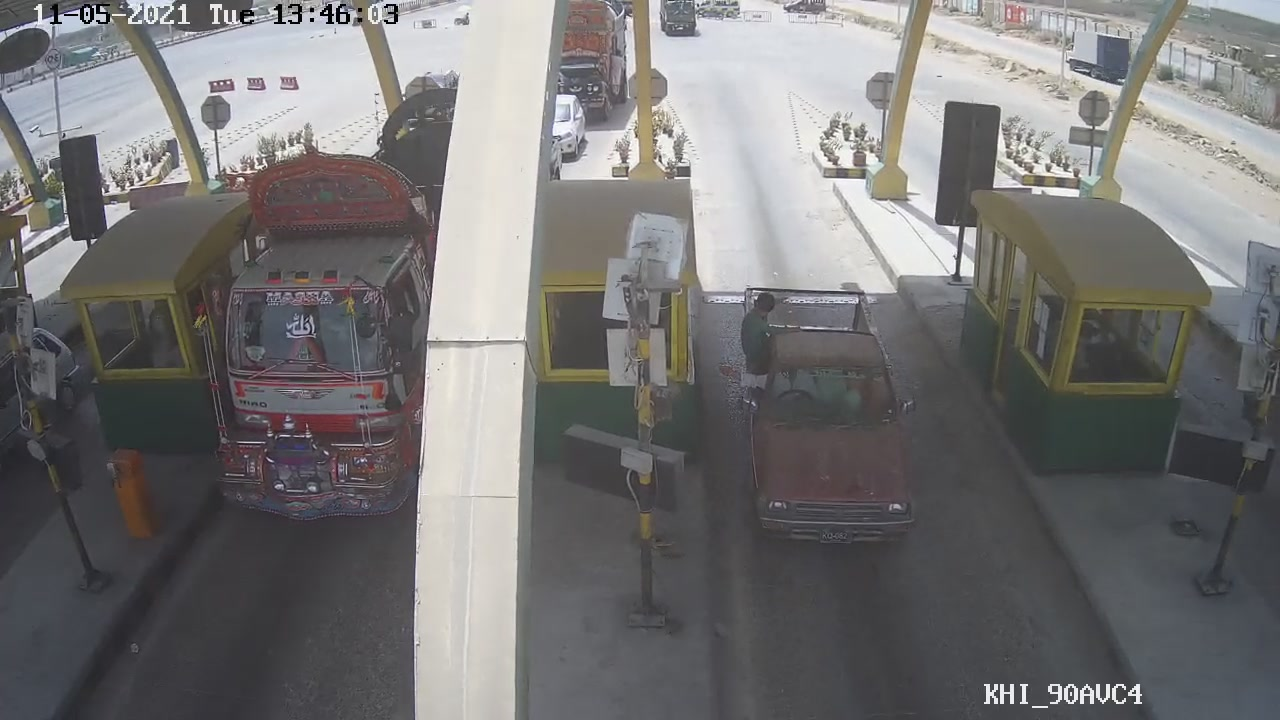F1: (724, 290, 940, 559)
